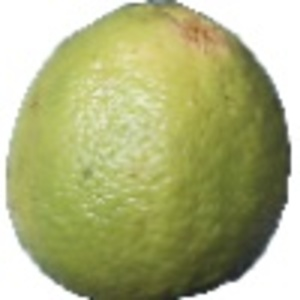limão: (4, 1, 291, 300)
